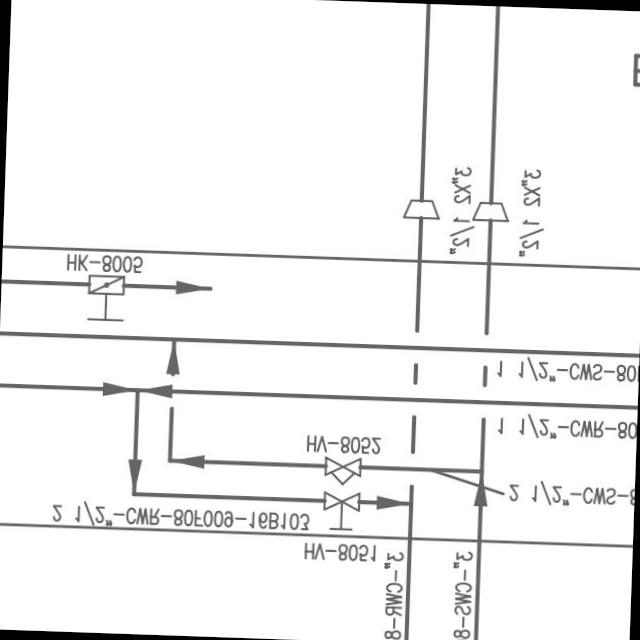BV: (80, 270, 129, 326)
HV: (318, 488, 363, 539)
SP: (467, 200, 511, 228), (399, 198, 442, 222)
